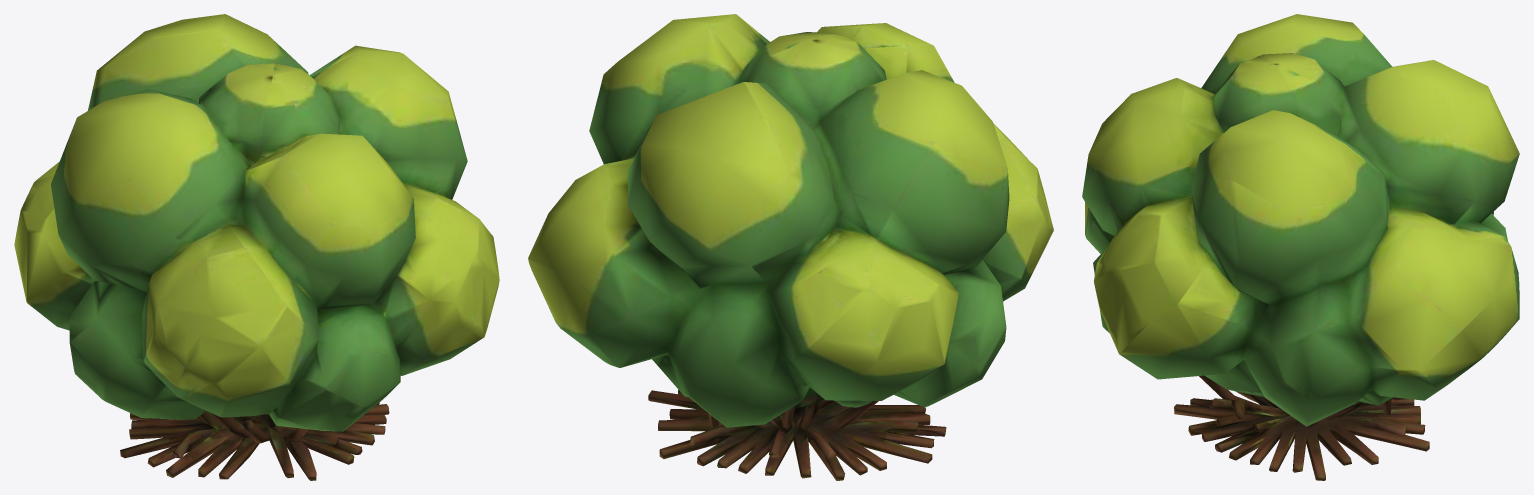
The model's file is bush-round-a.glb.
3 views of the same model, side by side, from view 1: azimuth 30°, elevation 25°; view 2: azimuth 150°, elevation 25°; view 3: azimuth 270°, elevation 25° (orthographic). The views are drawn at different scales.
Parts seen in each view (by area): view 1: node_0; view 2: node_0; view 3: node_0.
Boxes of the visible parts, left/top/right/bottom form: node_0: left=14, top=14, right=499, bottom=480; node_0: left=528, top=14, right=1053, bottom=480; node_0: left=1082, top=14, right=1519, bottom=480.
Size of the model in its own units: 1.25 by 1.1 by 1.23.
1 material, 1 textured.
